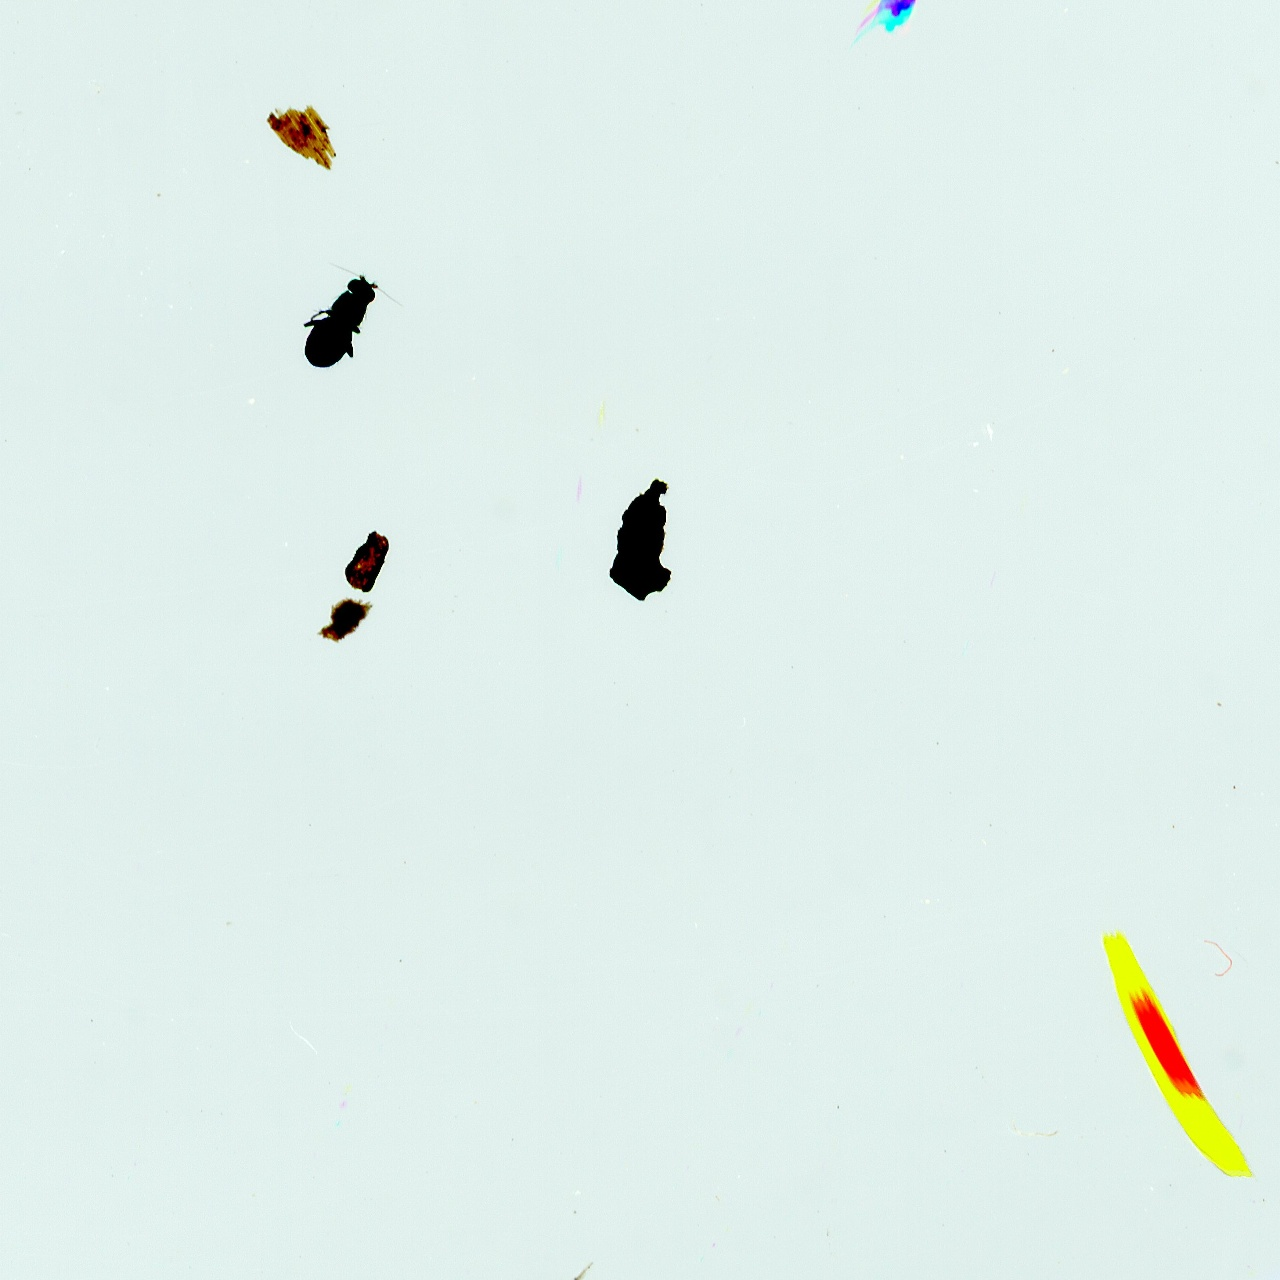arthropod: (268, 246, 415, 401)
